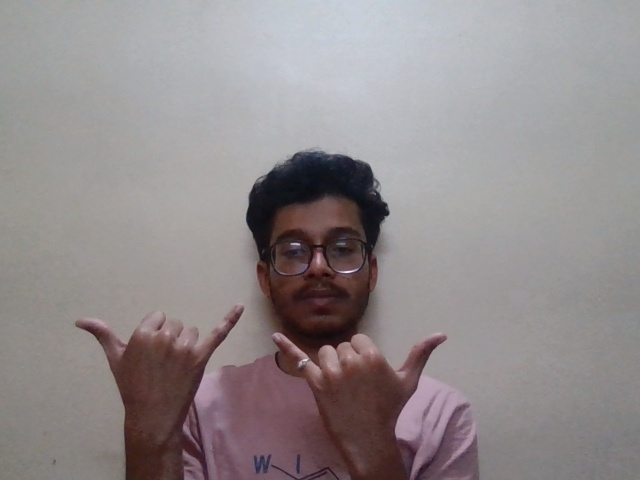today: (76, 307, 450, 454)
